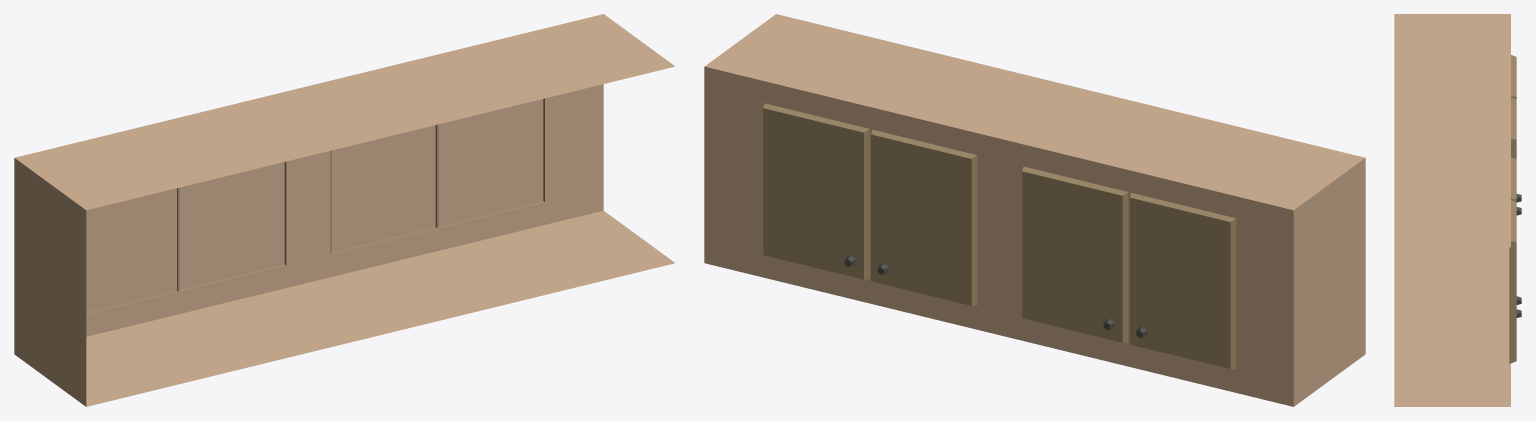
The model's file is cupboard.fbx.
3 views of the same model, side by side, from view 1: azimuth 30°, elevation 25°; view 2: azimuth 150°, elevation 25°; view 3: azimuth 270°, elevation 25° (orthographic). The views are drawn at different scales.
Visible parts, largest first — view 1: cupboard; view 2: cupboard; view 3: cupboard.
Boxes of the visible parts, x1,y1,x2,y2 form: cupboard: (14,14,675,406); cupboard: (704,14,1365,406); cupboard: (1394,14,1521,406).
Size of the model in its own units: 325 by 104 by 75.08.
